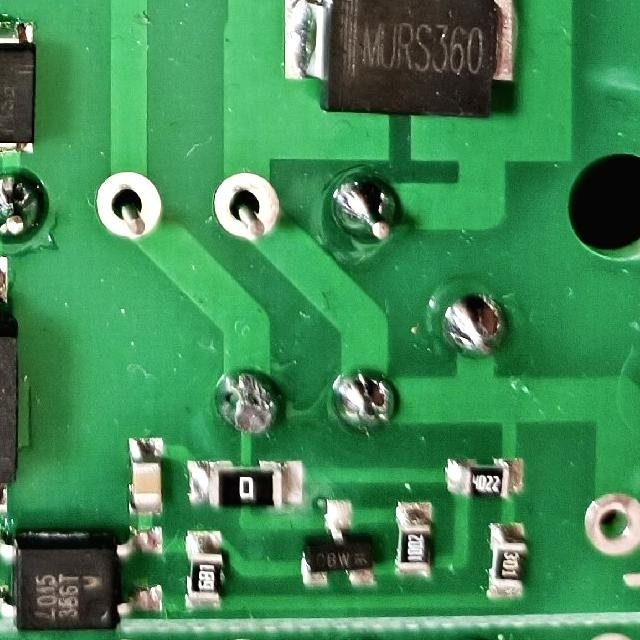chip-capacitor: (123, 433, 165, 519)
chip-resistor: (182, 455, 303, 509), (181, 526, 226, 613), (481, 520, 528, 600), (441, 455, 525, 498), (392, 497, 435, 580)
diode: (277, 0, 523, 122)
ic: (0, 520, 166, 632)
transistor: (294, 497, 378, 592)
